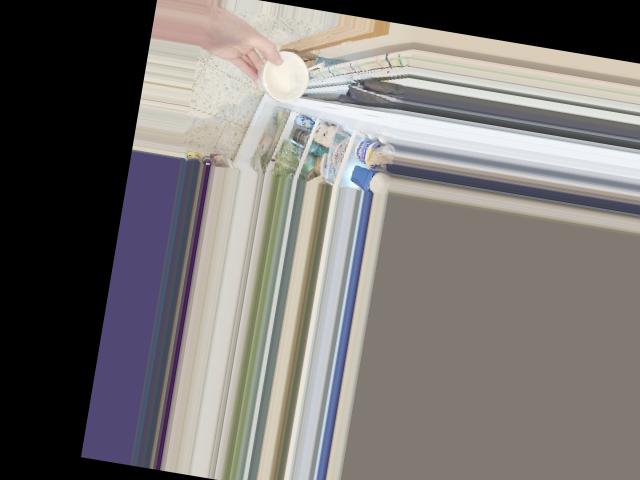cotage: (258, 51, 318, 108)
